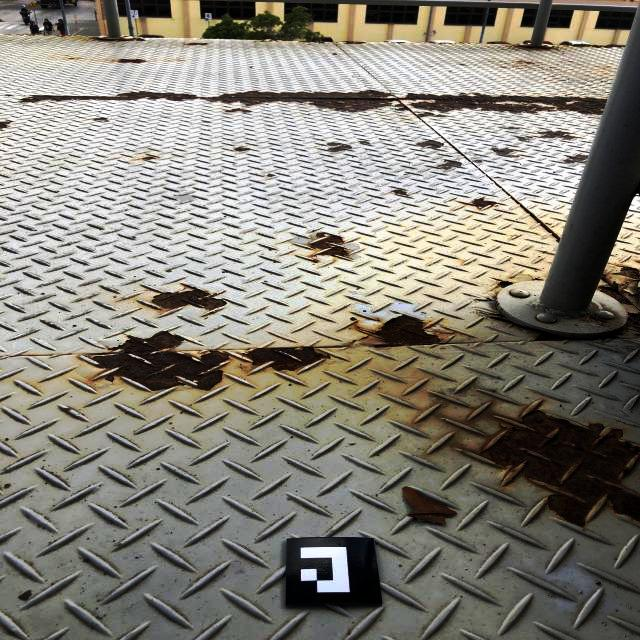Corrosion: (481, 411, 640, 527), (91, 332, 228, 391), (20, 90, 397, 111), (406, 93, 607, 114), (375, 316, 441, 346), (247, 348, 326, 371), (150, 289, 225, 311), (308, 232, 349, 257), (599, 285, 635, 306), (539, 130, 577, 139), (469, 197, 497, 209), (93, 36, 146, 42), (626, 311, 640, 333), (619, 266, 640, 280), (416, 139, 444, 149), (492, 147, 520, 157), (564, 153, 589, 164), (437, 159, 462, 170), (489, 314, 514, 325), (327, 141, 351, 152), (535, 332, 564, 341), (562, 44, 625, 48), (513, 44, 554, 49), (391, 188, 411, 197), (116, 57, 145, 63), (416, 112, 445, 118), (495, 280, 514, 288), (393, 103, 410, 111), (0, 119, 10, 128), (515, 136, 532, 141), (188, 42, 207, 46), (341, 41, 366, 44), (299, 41, 325, 43), (472, 159, 483, 163), (509, 126, 520, 129), (259, 40, 273, 42), (396, 42, 405, 44), (524, 62, 533, 64), (331, 53, 338, 55), (543, 45, 549, 46), (523, 43, 528, 44)
